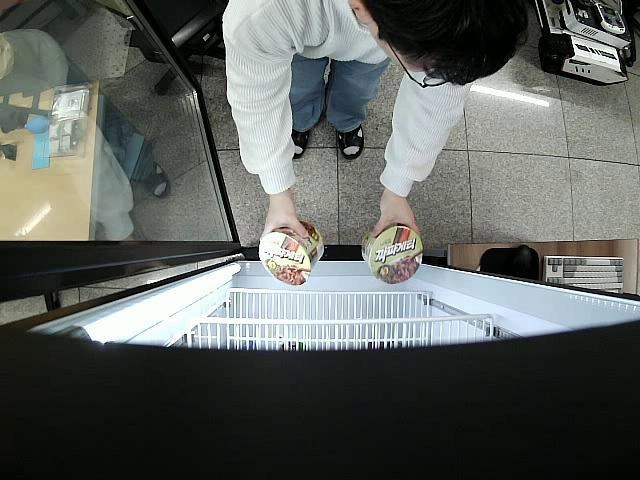03_chapagetti_L: (258, 220, 325, 286), (361, 224, 422, 284)
